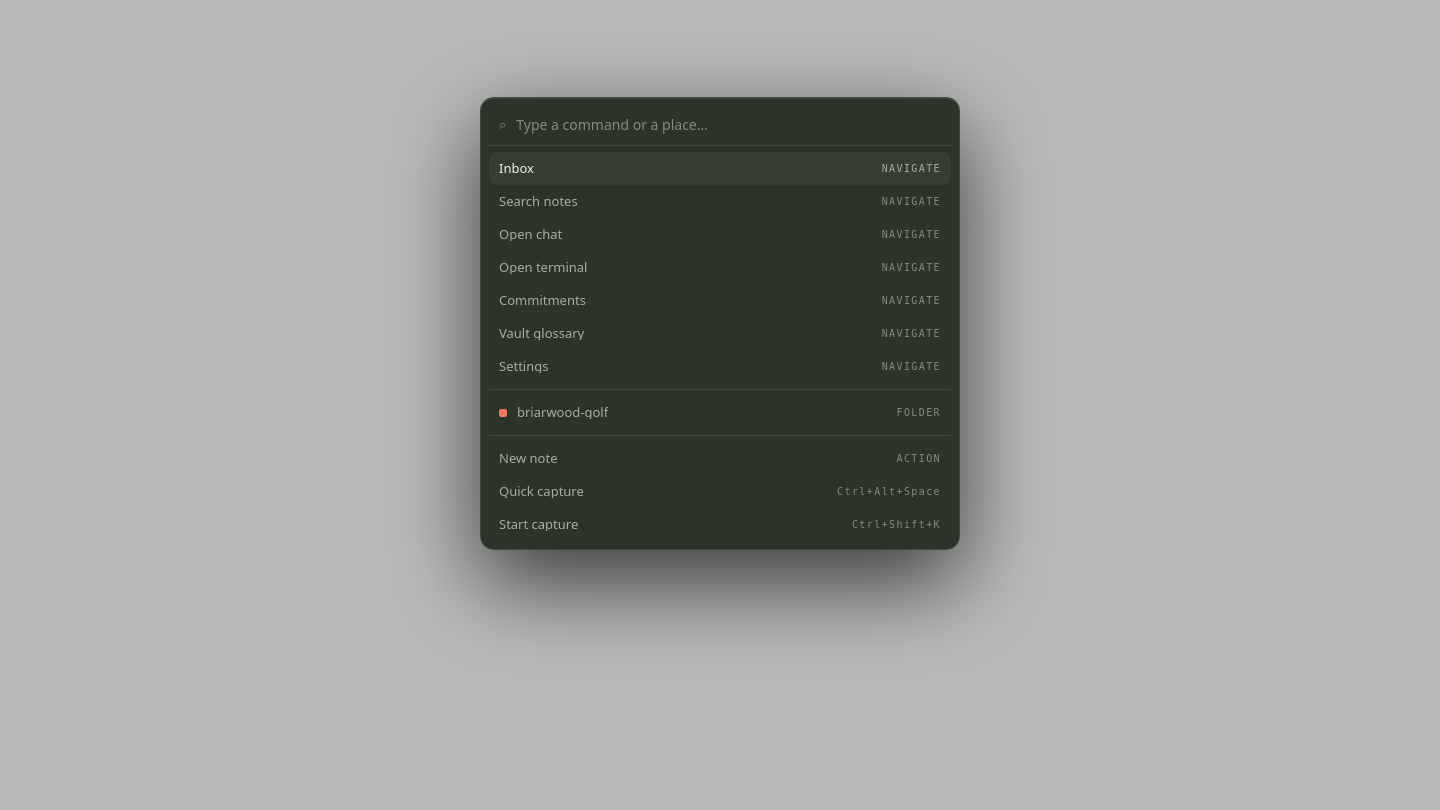
Test: CommandPalette › turns a query that matches nothing into a search
Check: the option "briarwood-golf folder" is shown, box [499, 403, 941, 421]
Type "zzzz" into the dropdown. click: (729, 125)
box: [516, 114, 941, 135]
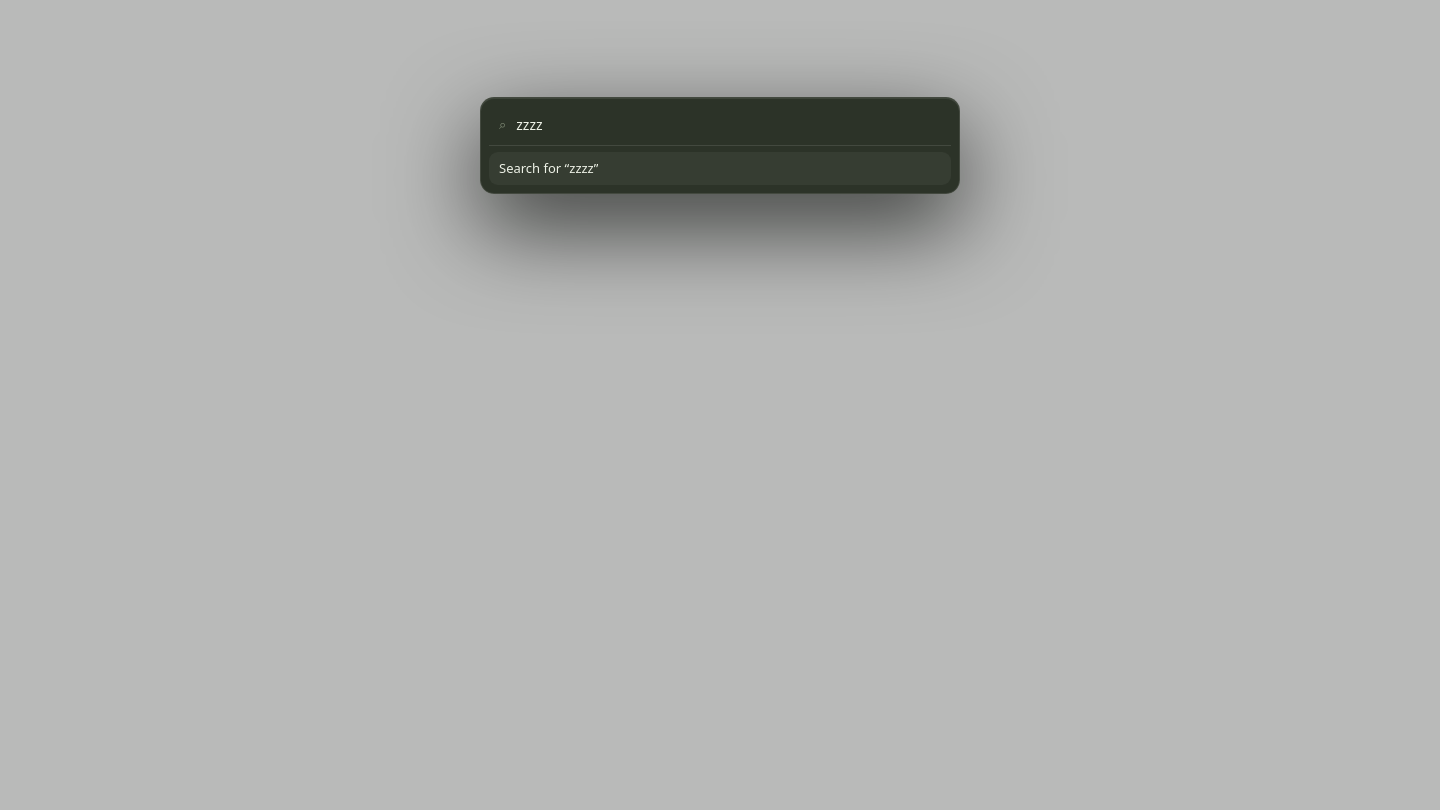
Check: the number of options is 1, box [489, 152, 951, 185]
Check: the option reads "Search for “zzzz”", box [489, 152, 951, 185]
